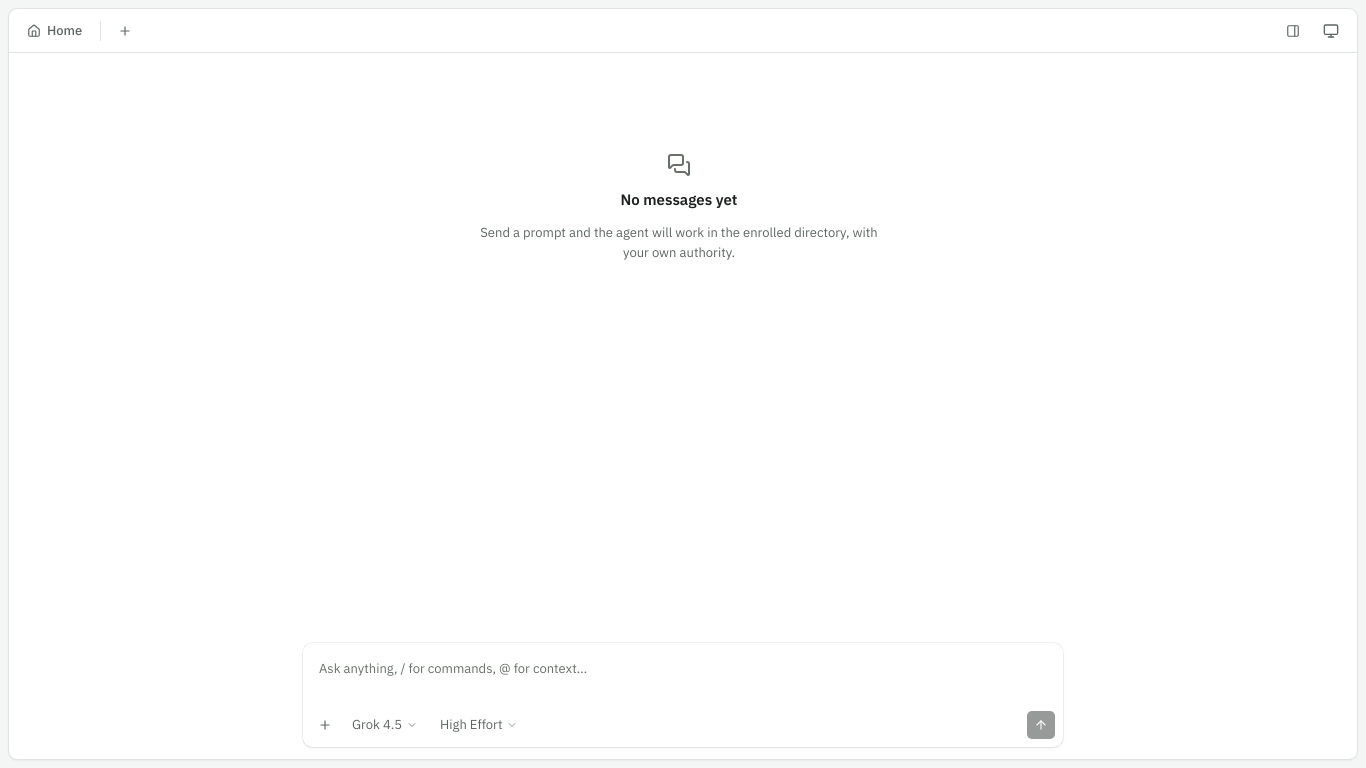
Test: SessionView › uses custom listboxes for model and effort, not bare native selects
The image size is (1366, 768).
Click the button with aria-label "model".
click(385, 725)  # box 343,711 -> 427,739
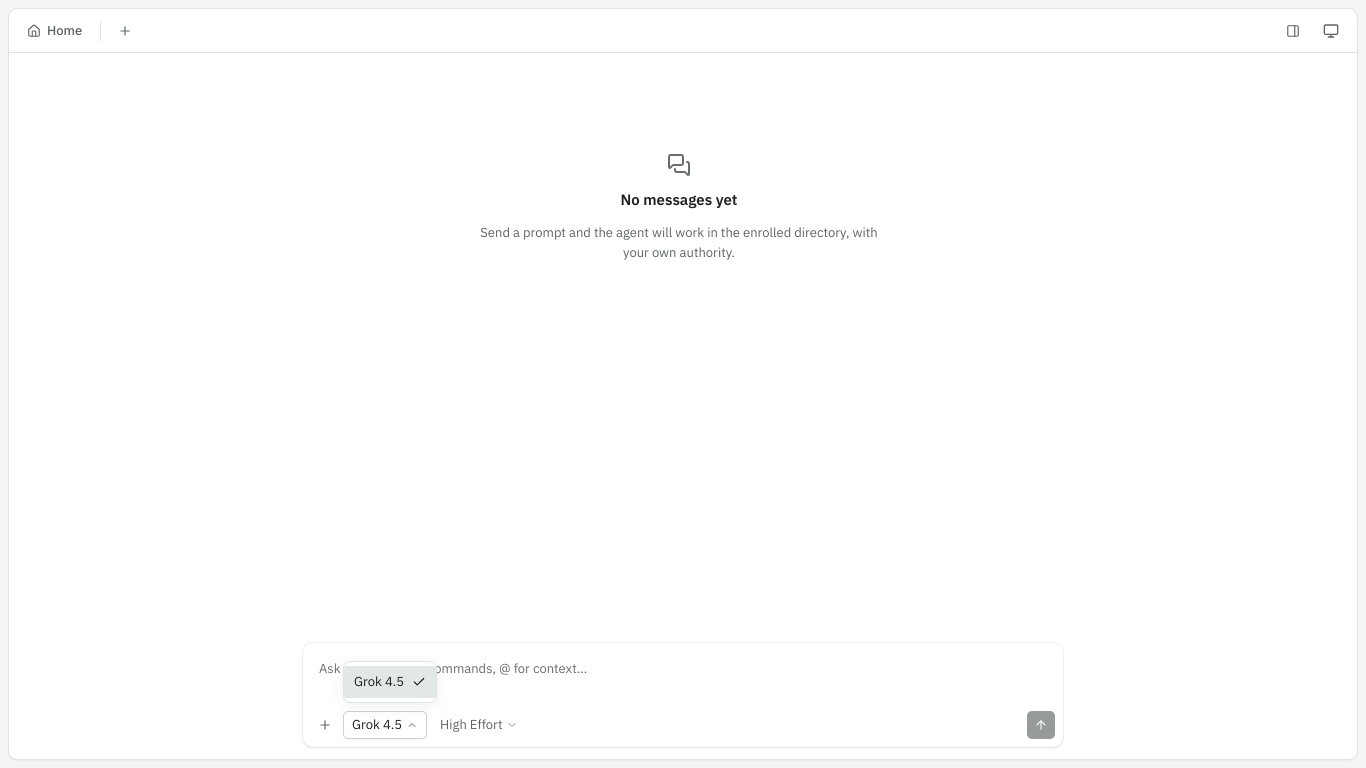
Check: the list named "model" is shown, box 343,661 -> 437,703
// Close model menu first so effort is the open listbox.
Press Escape
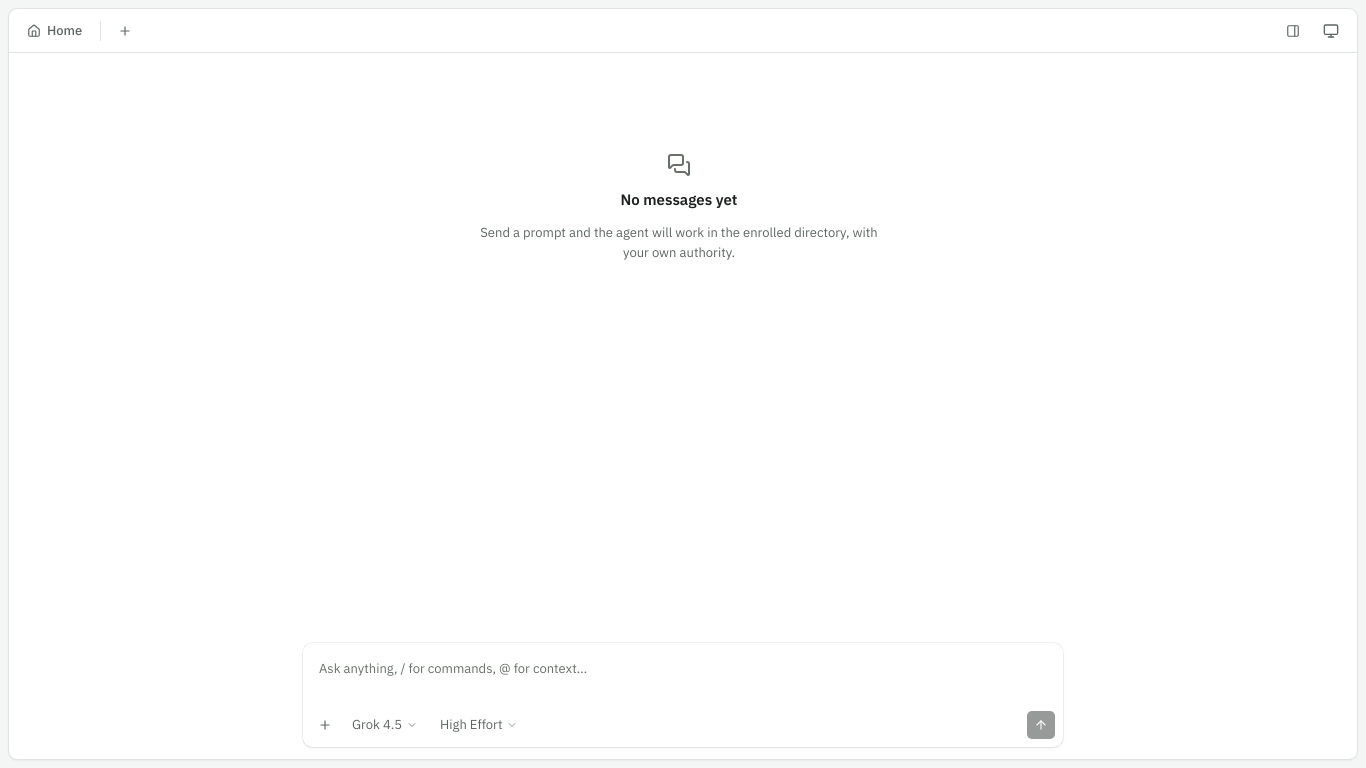
Click the button with aria-label "reasoning effort".
click(479, 725)  # box 431,711 -> 528,739
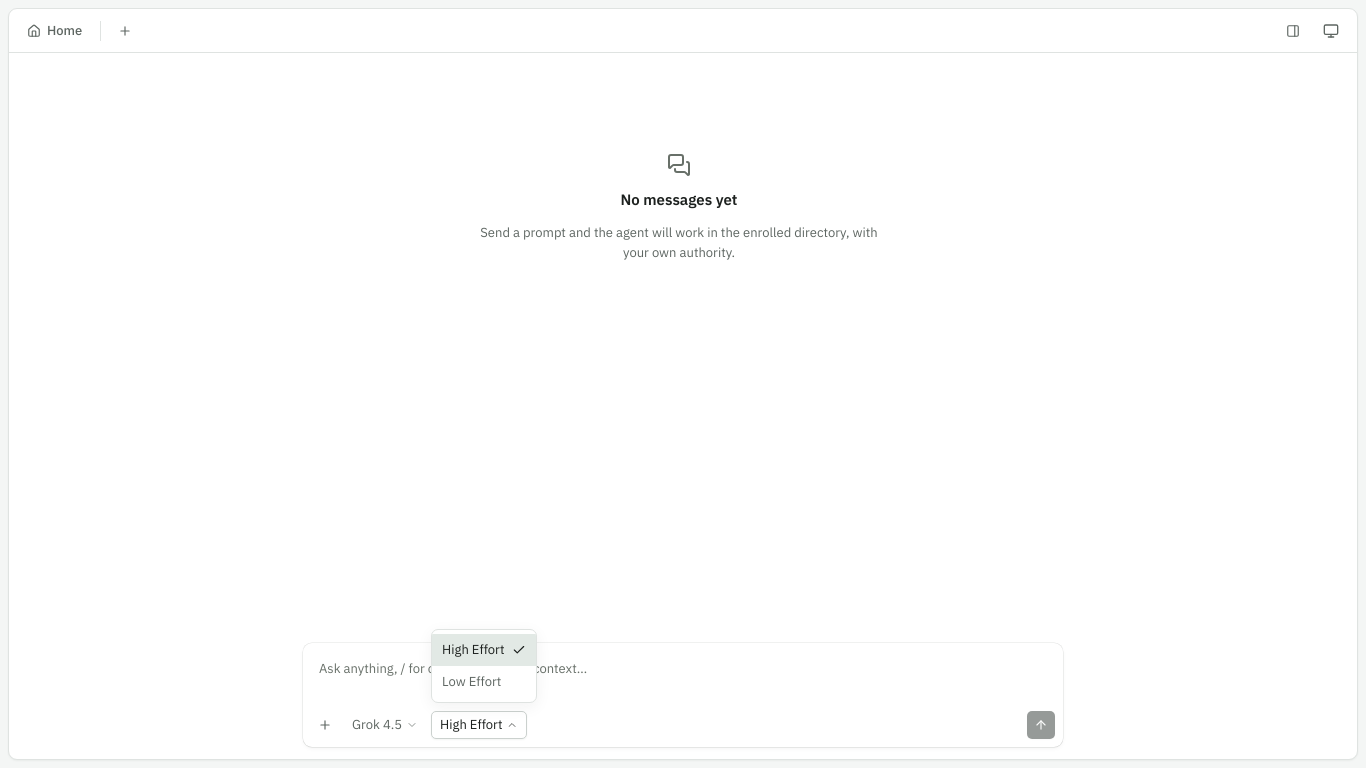
Check: the list named "reasoning effort" is shown, box 431,629 -> 538,703
Check: the option "Low Effort" is shown, box 432,666 -> 536,698
